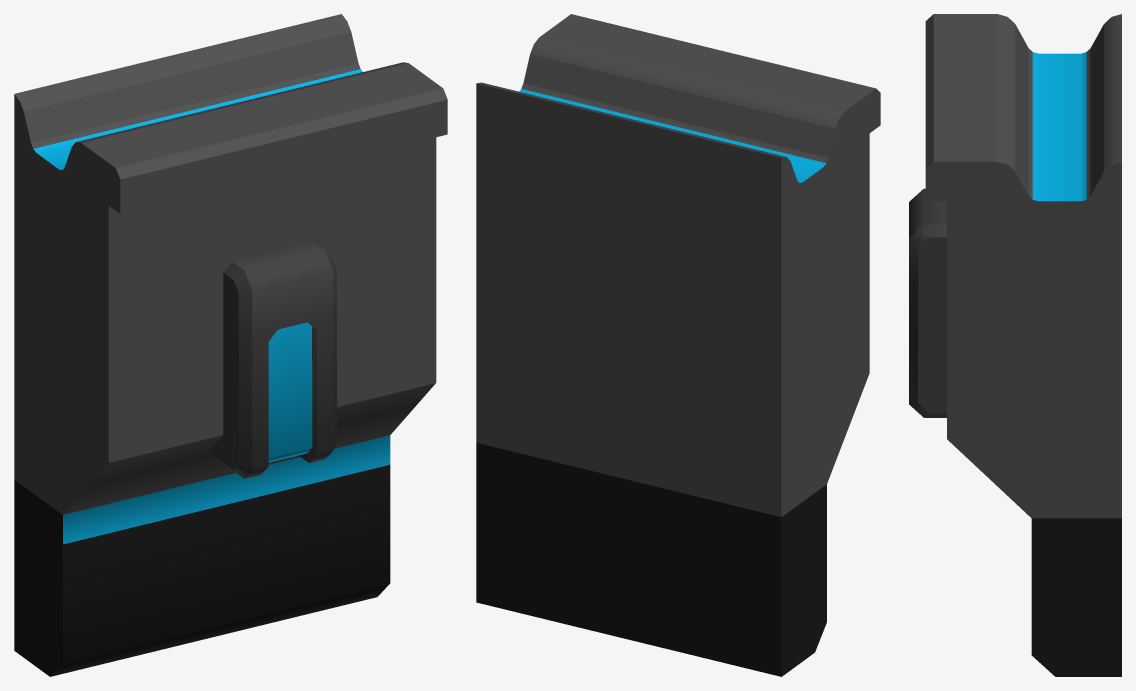
File: Floor_Edge_01C.fbx
The picture shows the model from 3 angles, left to right: view 1: azimuth 30°, elevation 25°; view 2: azimuth 150°, elevation 25°; view 3: azimuth 270°, elevation 25°; orthographic projection. The views are drawn at different scales.
Visible parts, largest first — view 1: Floor_Edge_01C; view 2: Floor_Edge_01C; view 3: Floor_Edge_01C.
Boxes of the visible parts, x1,y1,x2,y2 form: Floor_Edge_01C: (14,14,447,676); Floor_Edge_01C: (476,14,880,676); Floor_Edge_01C: (909,14,1121,676).
Bounding box in the file's own units: 400 × 650 × 243.
